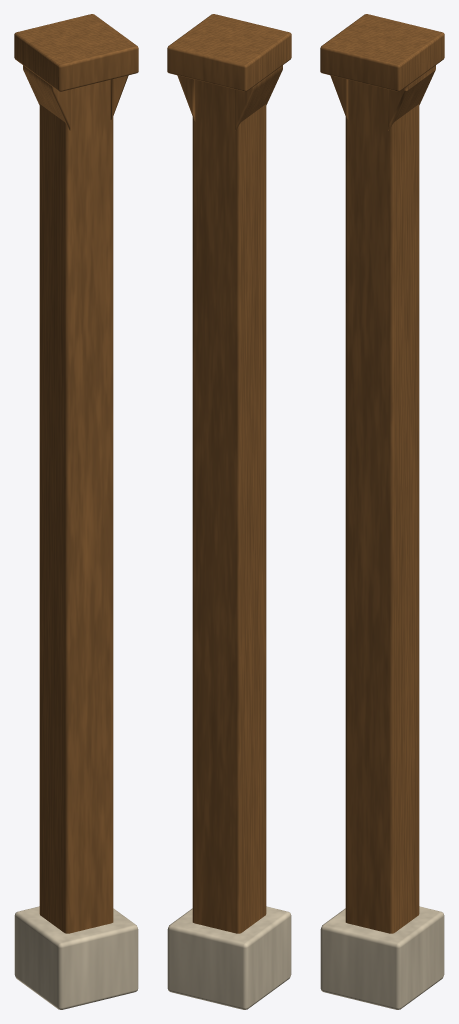
The model's file is Furn_Pillar.fbx.
3 views of the same model, side by side, from view 1: azimuth 30°, elevation 25°; view 2: azimuth 150°, elevation 25°; view 3: azimuth 330°, elevation 25° (orthographic).
Parts seen in each view (by area): view 1: Furn_Pillar_Mesh; view 2: Furn_Pillar_Mesh; view 3: Furn_Pillar_Mesh.
Boxes of the visible parts, x1=… form: Furn_Pillar_Mesh: x1=14, y1=14, x2=138, y2=1009; Furn_Pillar_Mesh: x1=167, y1=14, x2=291, y2=1009; Furn_Pillar_Mesh: x1=320, y1=14, x2=444, y2=1009.
Bounding box in the file's own units: 0.4 × 4.5 × 0.4.
